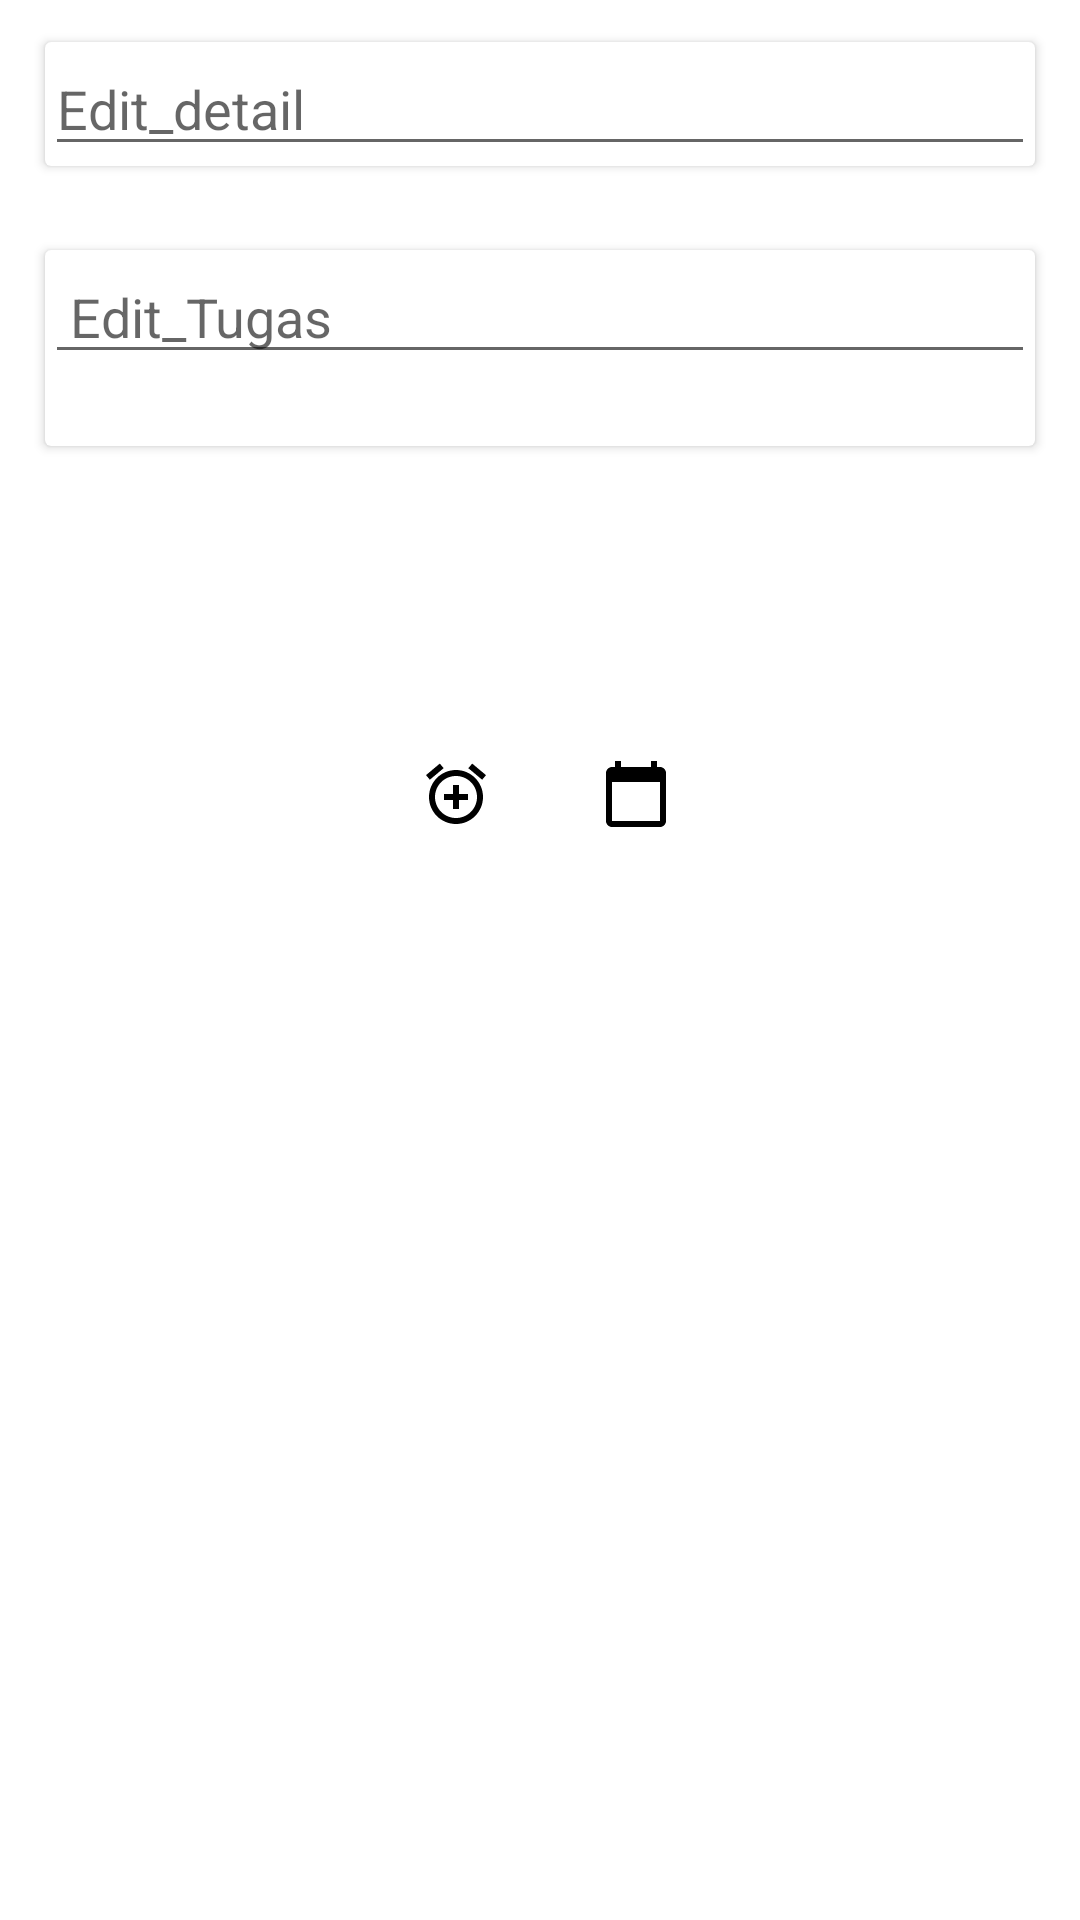

Icon bounding boxes for this 1080 × 1920 phone screenshot, format (x1, y1, x2, y2):
add alarm: (426, 763, 486, 824)
calendar today: (606, 761, 666, 827)
